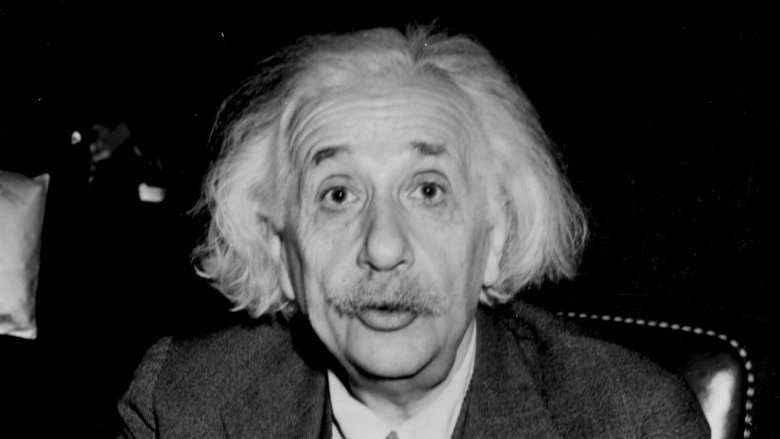noMask: (229, 21, 523, 391)
